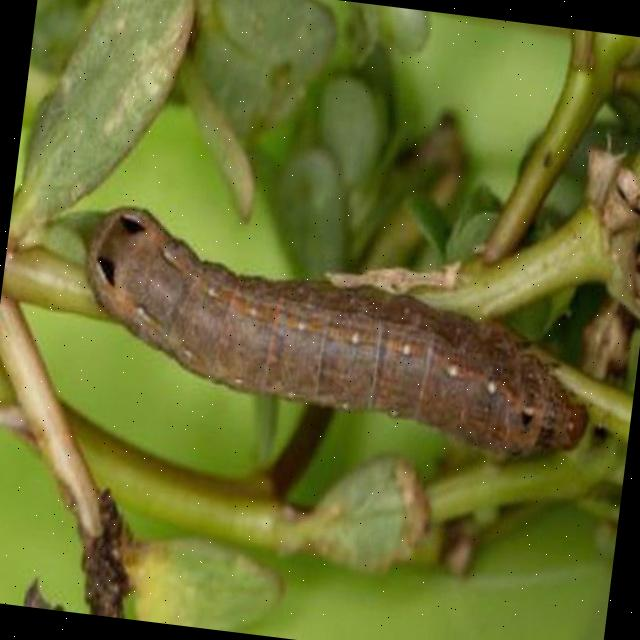worm: (64, 201, 610, 472)
